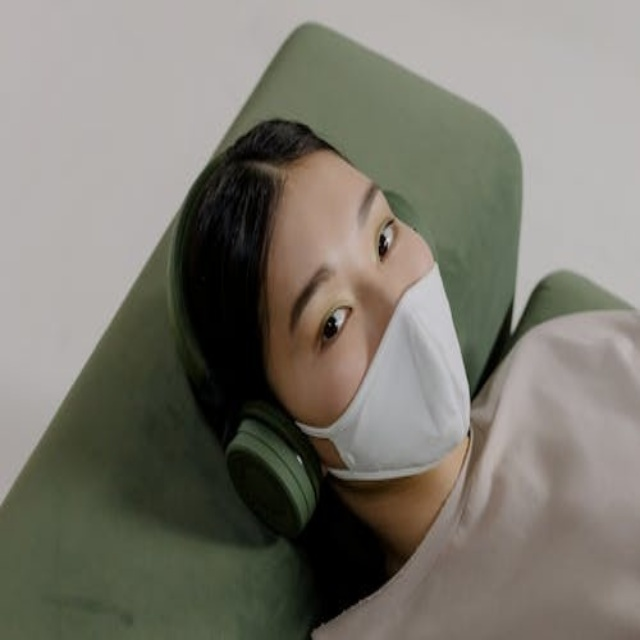Mascara: (292, 260, 473, 483)
Sin_gafas: (297, 171, 398, 381)
